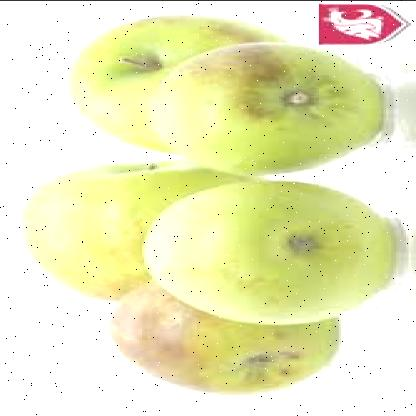apple: (167, 178, 393, 312), (28, 160, 242, 294)
damaged_apple: (63, 4, 296, 150), (158, 40, 384, 170), (107, 280, 349, 400)
